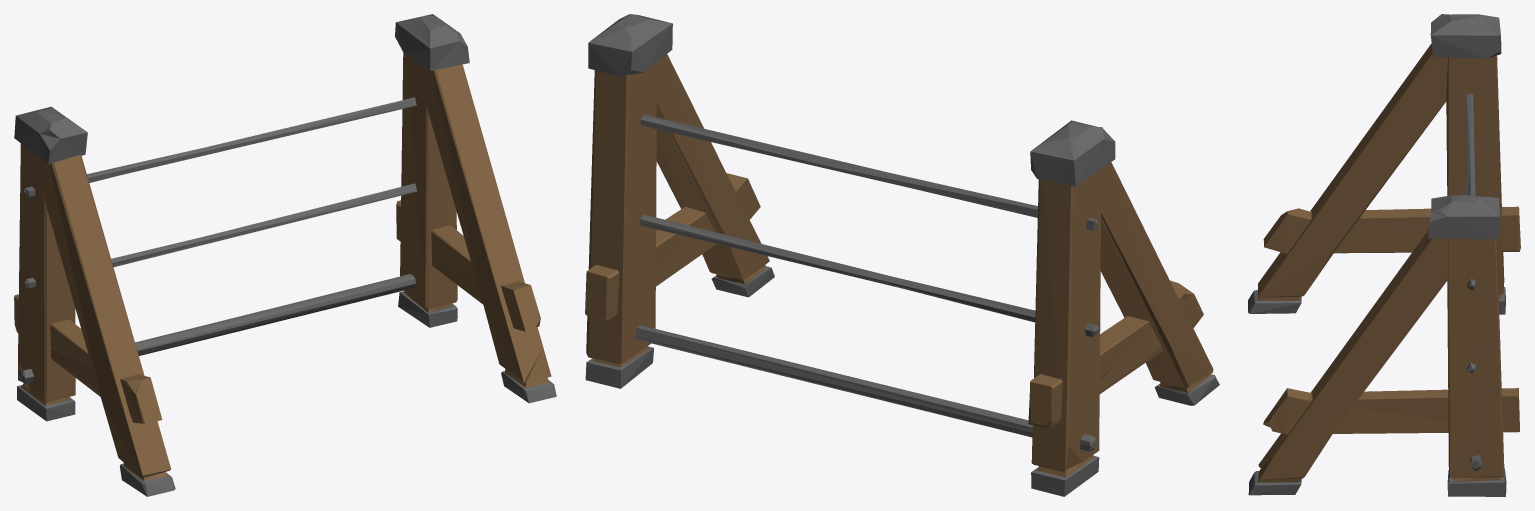
File: WeaponRack.005.fbx
3 renders of one model, left to right at view 1: azimuth 30°, elevation 25°; view 2: azimuth 150°, elevation 25°; view 3: azimuth 270°, elevation 25°, orthographic. The views are drawn at different scales.
Parts seen in each view (by area): view 1: WeaponRack.005; view 2: WeaponRack.005; view 3: WeaponRack.005.
Boxes of the visible parts, bbox=[...] form: WeaponRack.005: bbox=[14, 14, 556, 496]; WeaponRack.005: bbox=[585, 14, 1219, 496]; WeaponRack.005: bbox=[1248, 14, 1520, 496].
Size of the model in its own units: 142 by 93.31 by 79.43.
